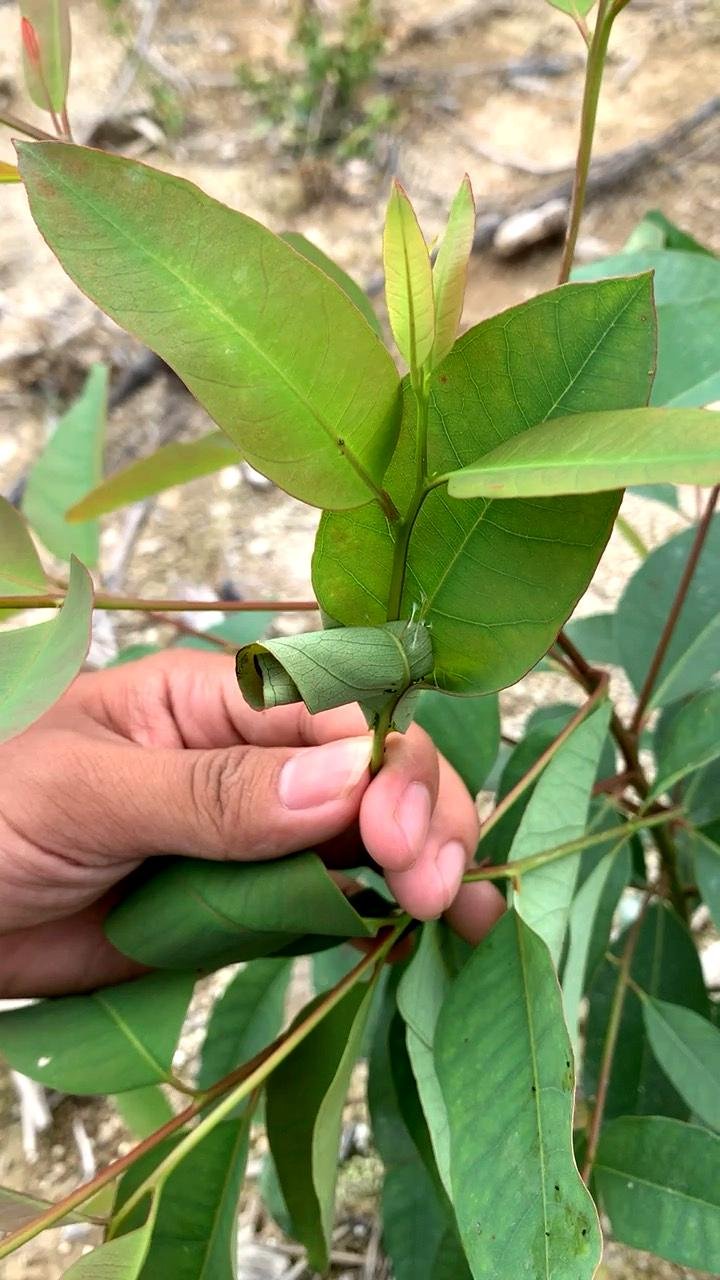Leaf Roller - Leaf: (211, 573, 496, 744)
